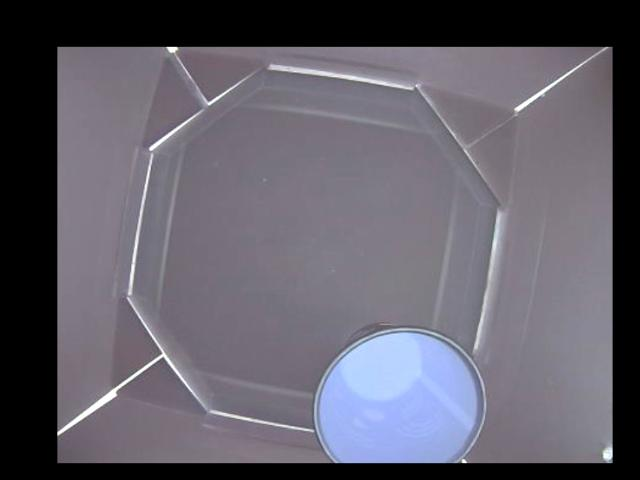Cup: (313, 324, 488, 463)
